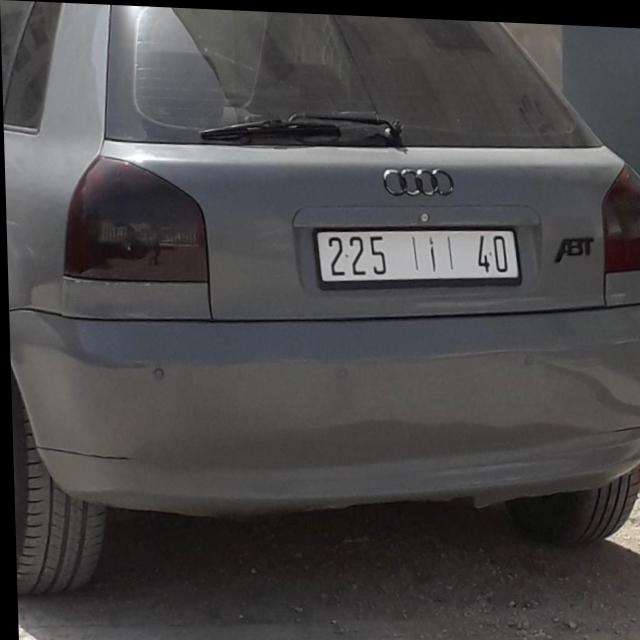License-Plate: (315, 225, 518, 280)
